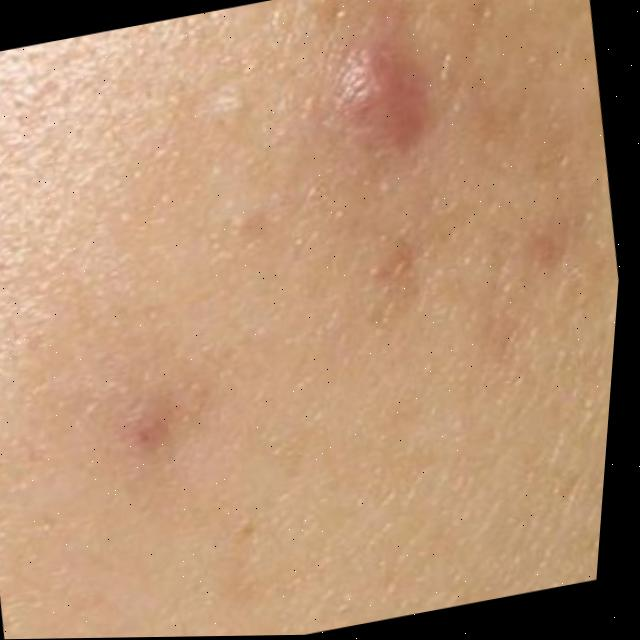Acne: (323, 24, 443, 149)
